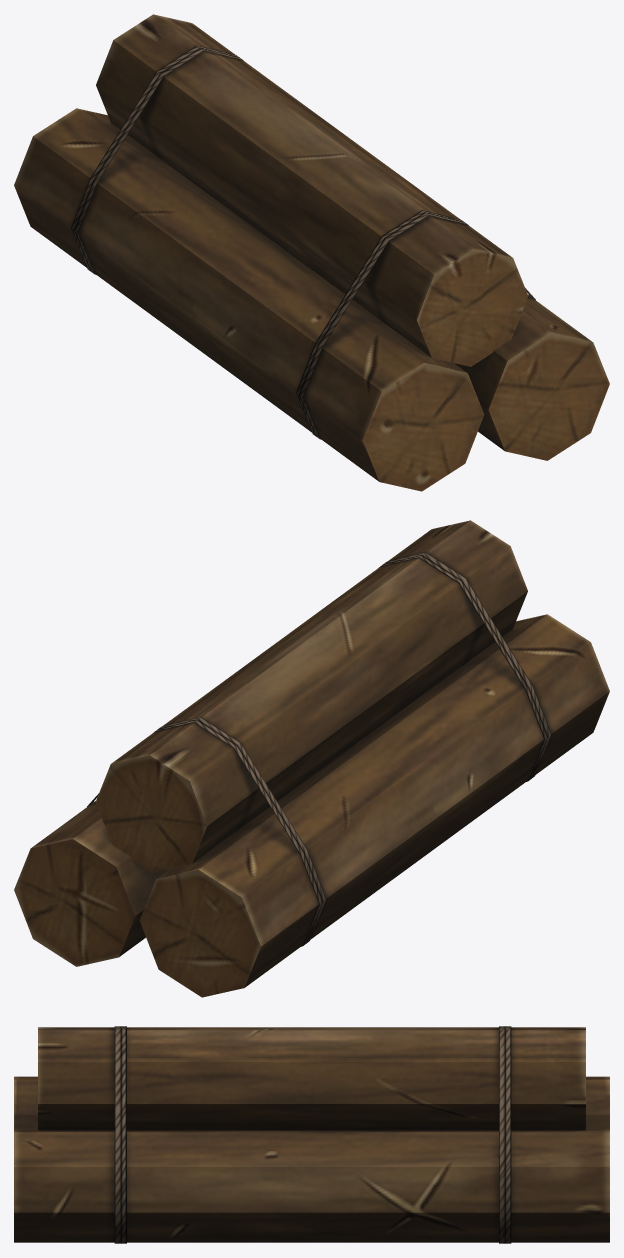
The model's file is modelLog.fbx.
3 views of the same model, one above another, from view 1: azimuth 30°, elevation 25°; view 2: azimuth 150°, elevation 25°; view 3: azimuth 270°, elevation 25° (orthographic). The views are drawn at different scales.
Parts seen in each view (by area): view 1: modelLog; view 2: modelLog; view 3: modelLog.
Boxes of the visible parts, x1,y1,x2,y2 form: modelLog: (14, 14, 609, 491); modelLog: (14, 520, 609, 997); modelLog: (14, 1026, 609, 1243).
Bounding box in the file's own units: 4.26 × 3.57 × 10.35.
